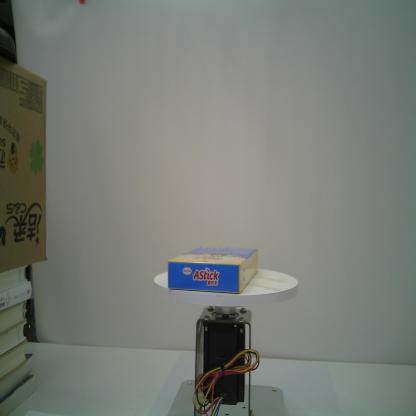Dessert: (164, 244, 259, 298)
